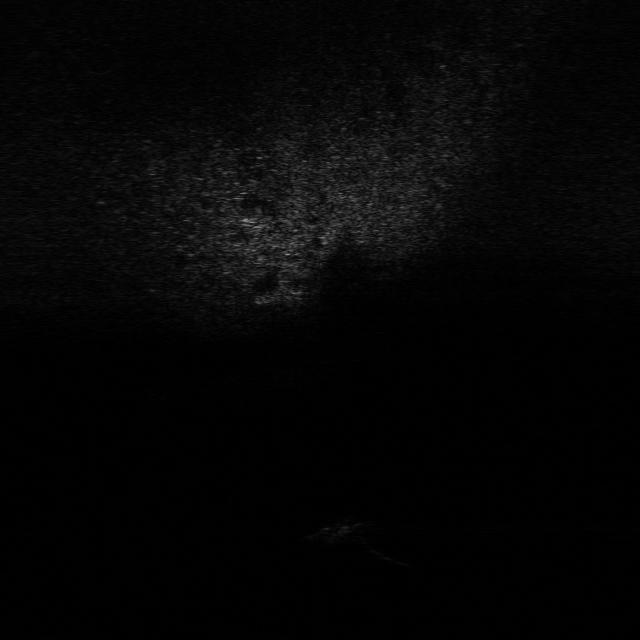circle cage: (306, 504, 373, 550)
